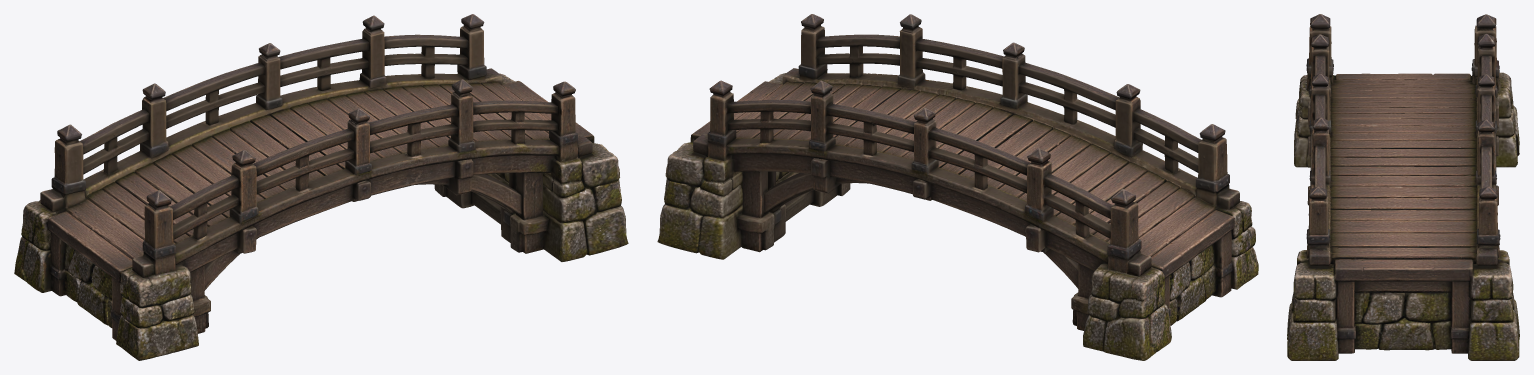
Rendered from Blidge.fbx.
The picture shows the model from 3 angles, left to right: view 1: azimuth 30°, elevation 25°; view 2: azimuth 150°, elevation 25°; view 3: azimuth 270°, elevation 25°; orthographic projection. The views are drawn at different scales.
Visible parts, largest first — view 1: stone arch bridge 3d model; view 2: stone arch bridge 3d model; view 3: stone arch bridge 3d model.
Boxes of the visible parts, <box> form: stone arch bridge 3d model: <box>14,14,628,360</box>; stone arch bridge 3d model: <box>657,14,1258,360</box>; stone arch bridge 3d model: <box>1287,14,1519,360</box>.
Bounding box in the file's own units: 98.1 × 36.3 × 43.16.
Materials: 1 (1 with a texture image).
